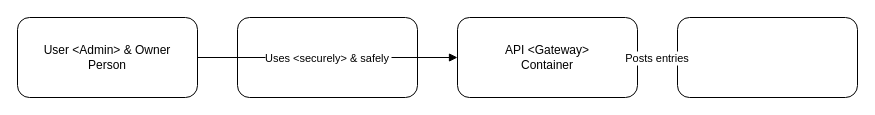
This 875x115 diagram has some shape labels left out. Here are the shapes that lost their labels. From the top down, the box of each, then its label:
(236, 16, 418, 98): Orders & Payments SoftwareSystem
(676, 16, 858, 98): External Ledger SoftwareSystem
